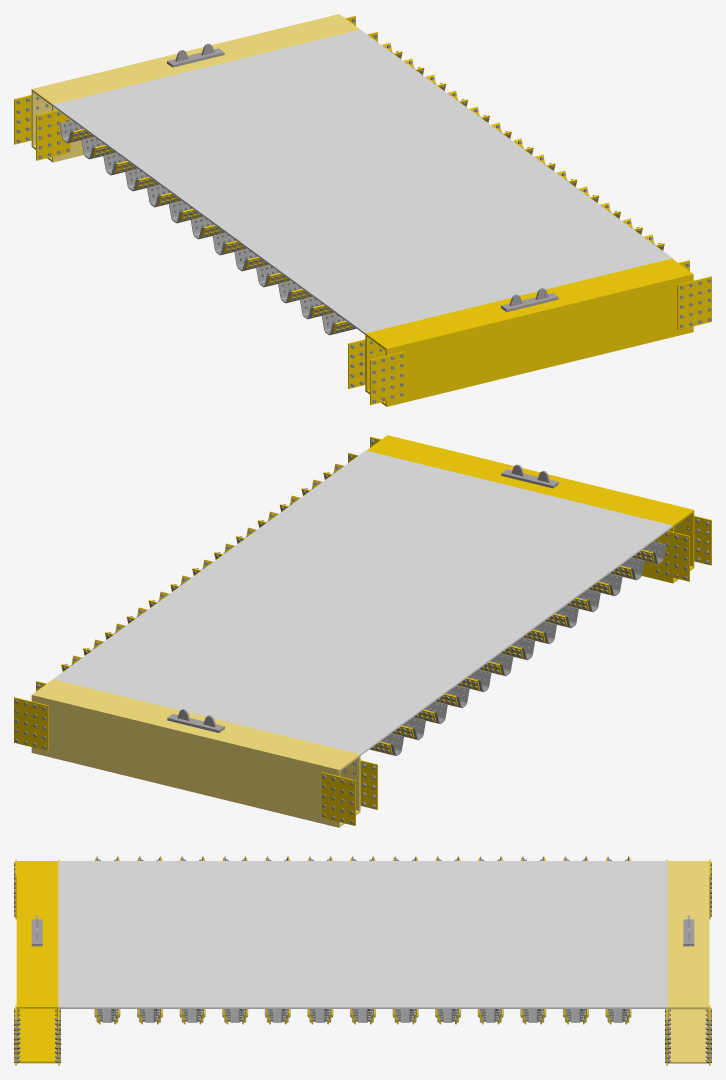
3 renders of one model, top to bottom at view 1: azimuth 30°, elevation 25°; view 2: azimuth 150°, elevation 25°; view 3: azimuth 270°, elevation 25°, orthographic. The views are drawn at different scales.
Parts seen in each view (by area): view 1: 3DGeom-34, 3DGeom-47, 3DGeom-36, 3DGeom-46, 3DGeom-42, 3DGeom-38, 3DGeom-69, 3DGeom-37; view 2: 3DGeom-34, 3DGeom-36, 3DGeom-47, 3DGeom-66, 3DGeom-69, 3DGeom-37, 3DGeom-38, 3DGeom-42; view 3: 3DGeom-34, 3DGeom-36, 3DGeom-47.
Boxes of the visible parts, left/top/right/bottom form: 3DGeom-34: left=53, top=29, right=672, bottom=334; 3DGeom-47: left=365, top=258, right=693, bottom=406; 3DGeom-36: left=31, top=14, right=359, bottom=162; 3DGeom-46: left=677, top=276, right=711, bottom=329; 3DGeom-42: left=370, top=351, right=404, bottom=404; 3DGeom-38: left=36, top=110, right=70, bottom=160; 3DGeom-69: left=14, top=95, right=31, bottom=144; 3DGeom-37: left=348, top=339, right=365, bottom=388; 3DGeom-34: left=53, top=450, right=672, bottom=755; 3DGeom-36: left=31, top=679, right=360, bottom=827; 3DGeom-47: left=366, top=435, right=694, bottom=583; 3DGeom-66: left=14, top=697, right=48, bottom=750; 3DGeom-69: left=321, top=772, right=355, bottom=825; 3DGeom-37: left=655, top=531, right=689, bottom=581; 3DGeom-38: left=360, top=760, right=377, bottom=809; 3DGeom-42: left=694, top=515, right=711, bottom=565; 3DGeom-34: left=58, top=861, right=667, bottom=1008; 3DGeom-36: left=667, top=861, right=709, bottom=1063; 3DGeom-47: left=16, top=861, right=58, bottom=1063.
Size of the model in its own units: 5.55 by 1.09 by 10.08.
